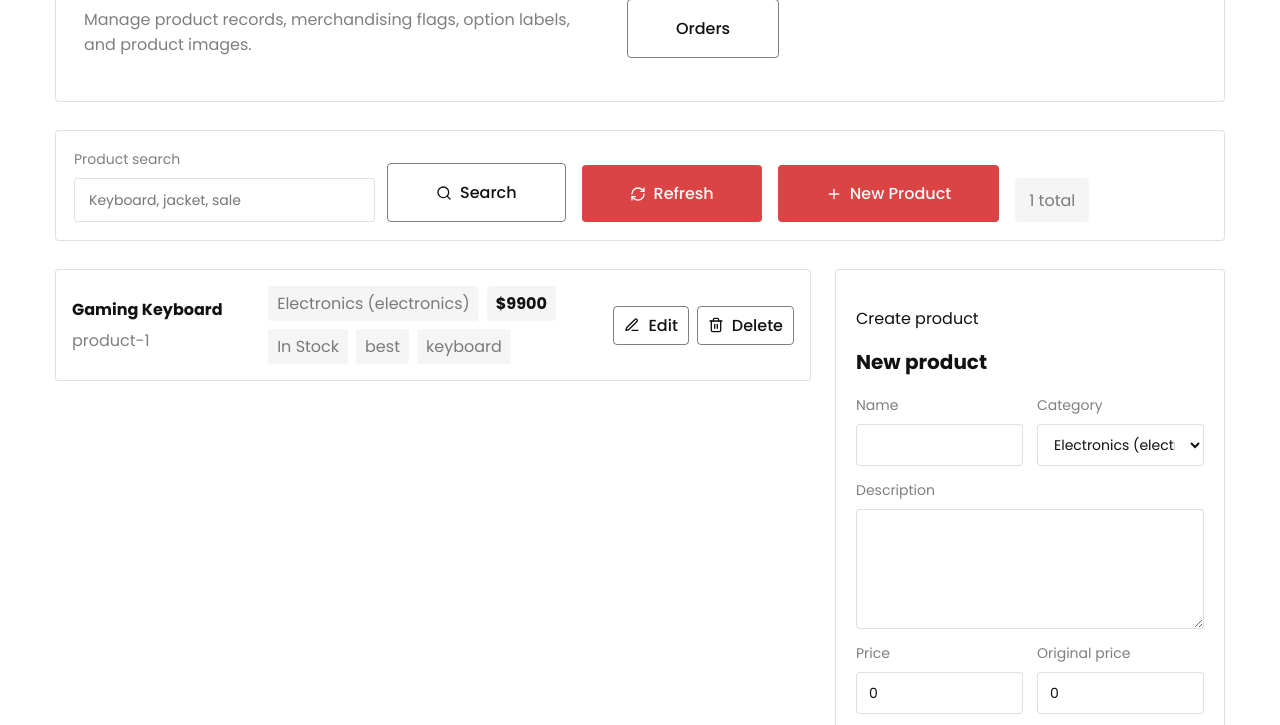
Test: AdminProductsPage › loads and saves variants for the selected product
The width and height of the screenshot is (1280, 725).
(page scrolled)
Click the button "Edit" at (651,325), box x1=613 y1=306 x2=689 y2=344
(page scrolled)
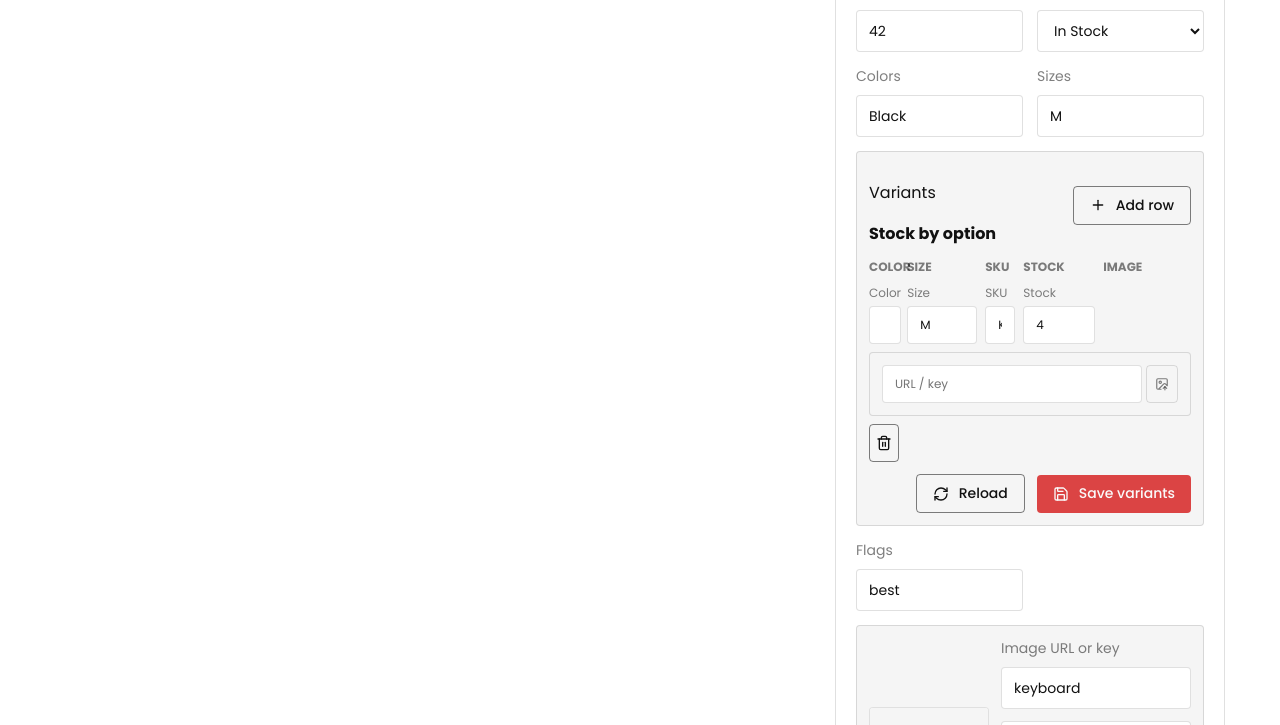
Expected: the field showing "KEY-BLK-M" is shown, x1=985 y1=306 x2=1015 y2=344
Replace the text in the number field named "Variant 1 stock" with "8" at (1059,325), box x1=1023 y1=306 x2=1095 y2=344
Click the button "Add row" at (1132,205), box x1=1073 y1=186 x2=1191 y2=224
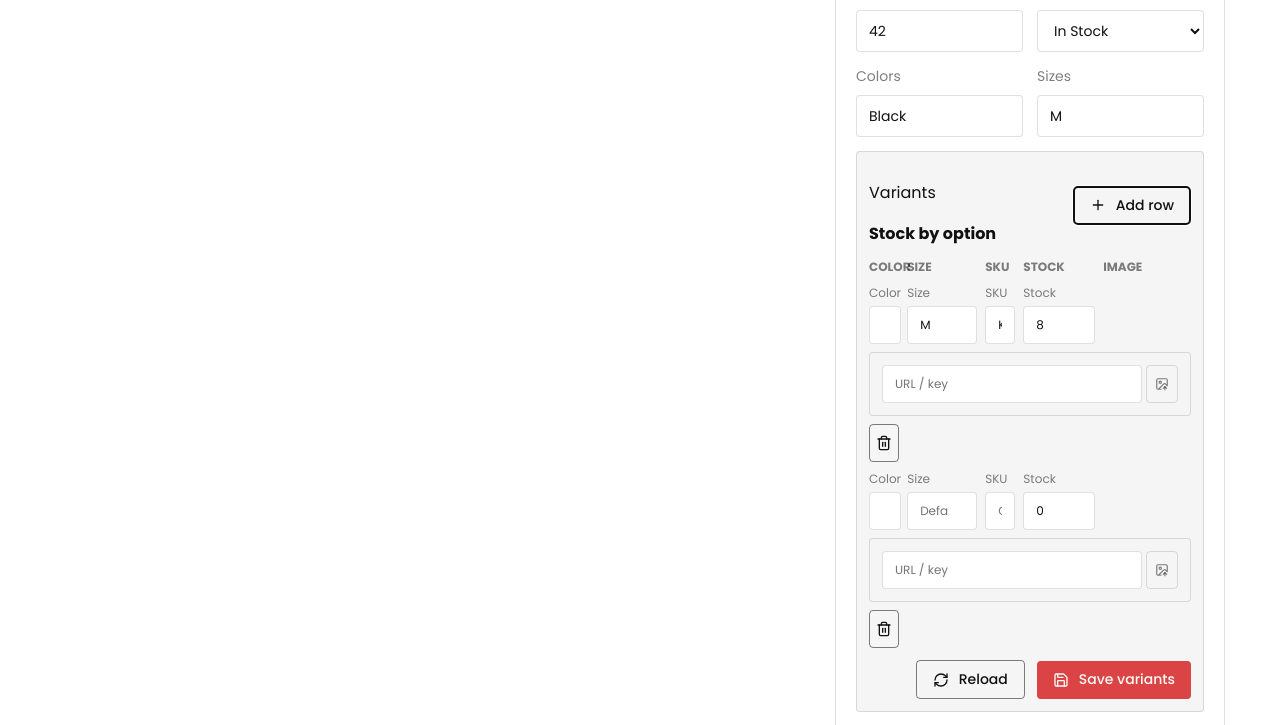
Type "White" into the field named "Variant 2 color" at (885,511), box x1=869 y1=492 x2=901 y2=530
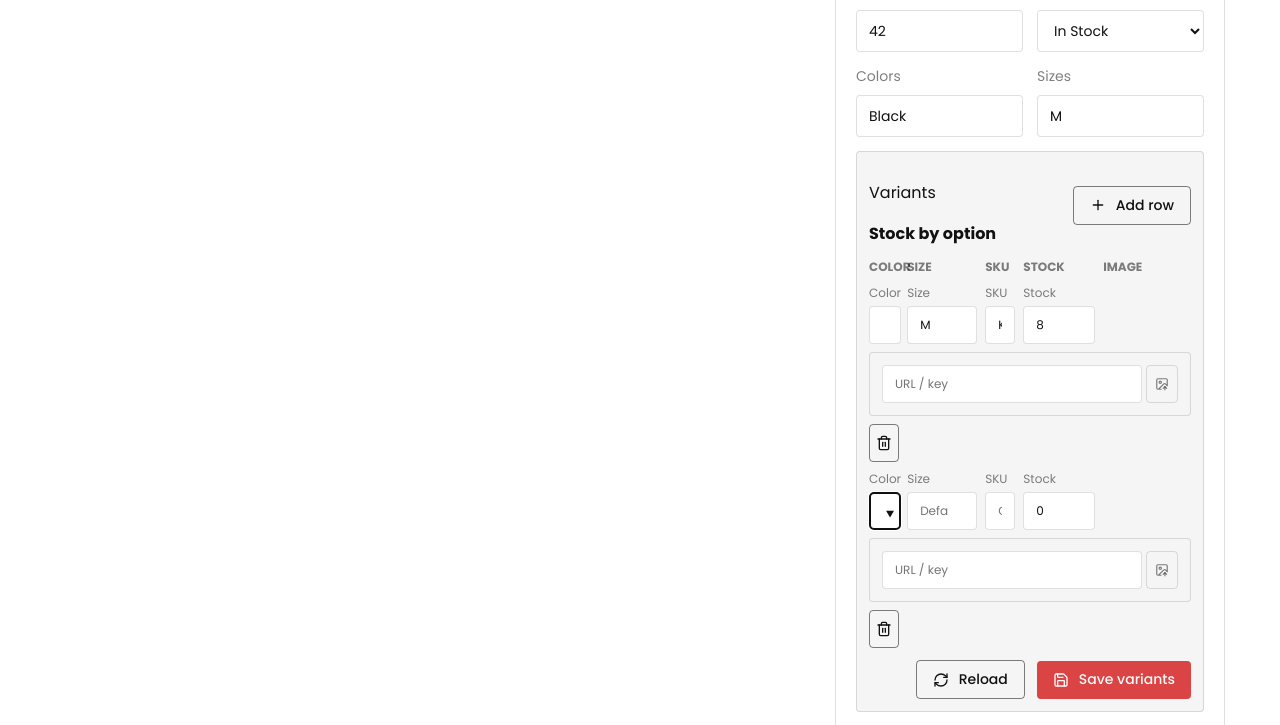
Type "L" into the field named "Variant 2 size" at (942,511), box x1=907 y1=492 x2=977 y2=530
Type "KEY-WHT-L" into the field named "Variant 2 sku" at (1000,511), box x1=985 y1=492 x2=1015 y2=530
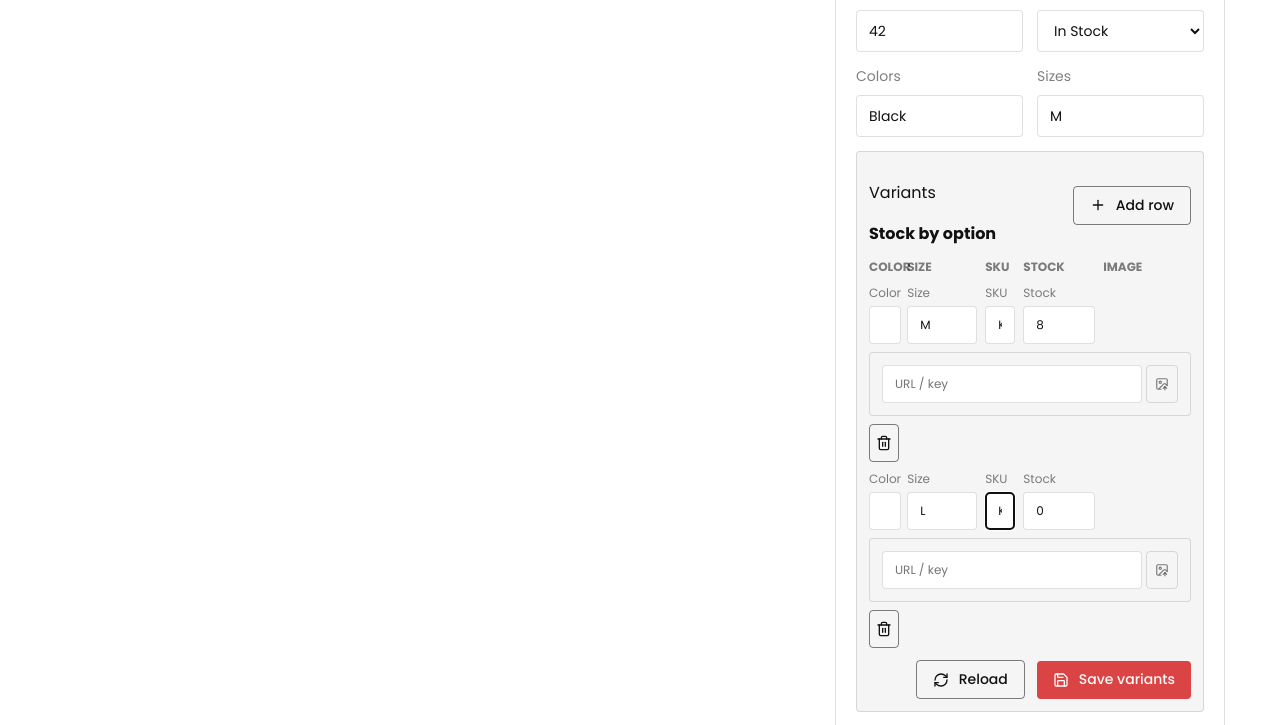
Replace the text in the number field named "Variant 2 stock" with "3" at (1059,511), box x1=1023 y1=492 x2=1095 y2=530
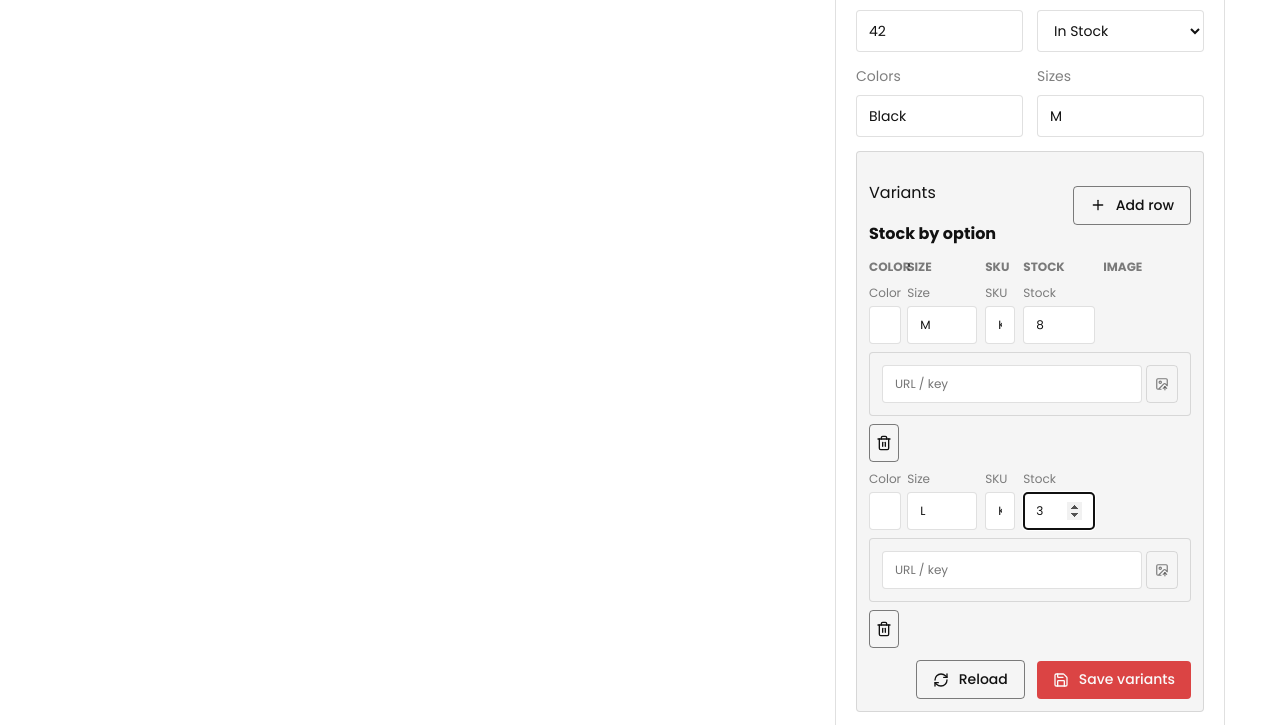
Click the button "Save variants" at (1114,680), box x1=1037 y1=660 x2=1191 y2=698
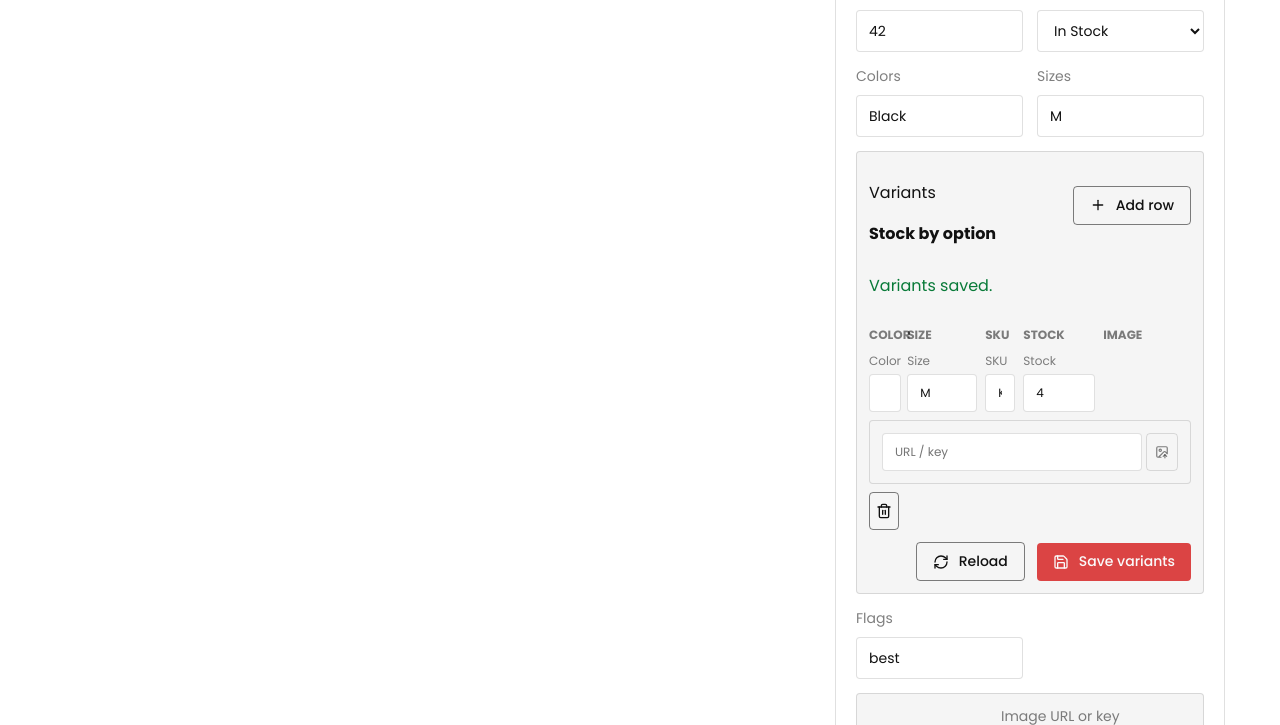
Expected: the text "Variants saved." is shown, x1=869 y1=274 x2=992 y2=297
